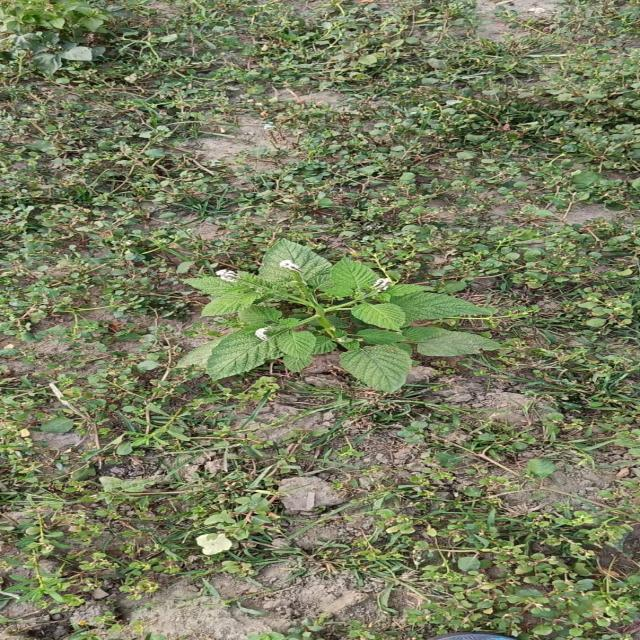plant: (183, 240, 498, 392)
